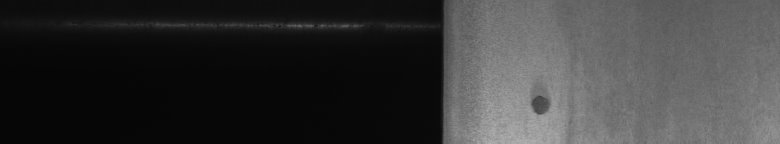fi: (524, 88, 573, 125)
